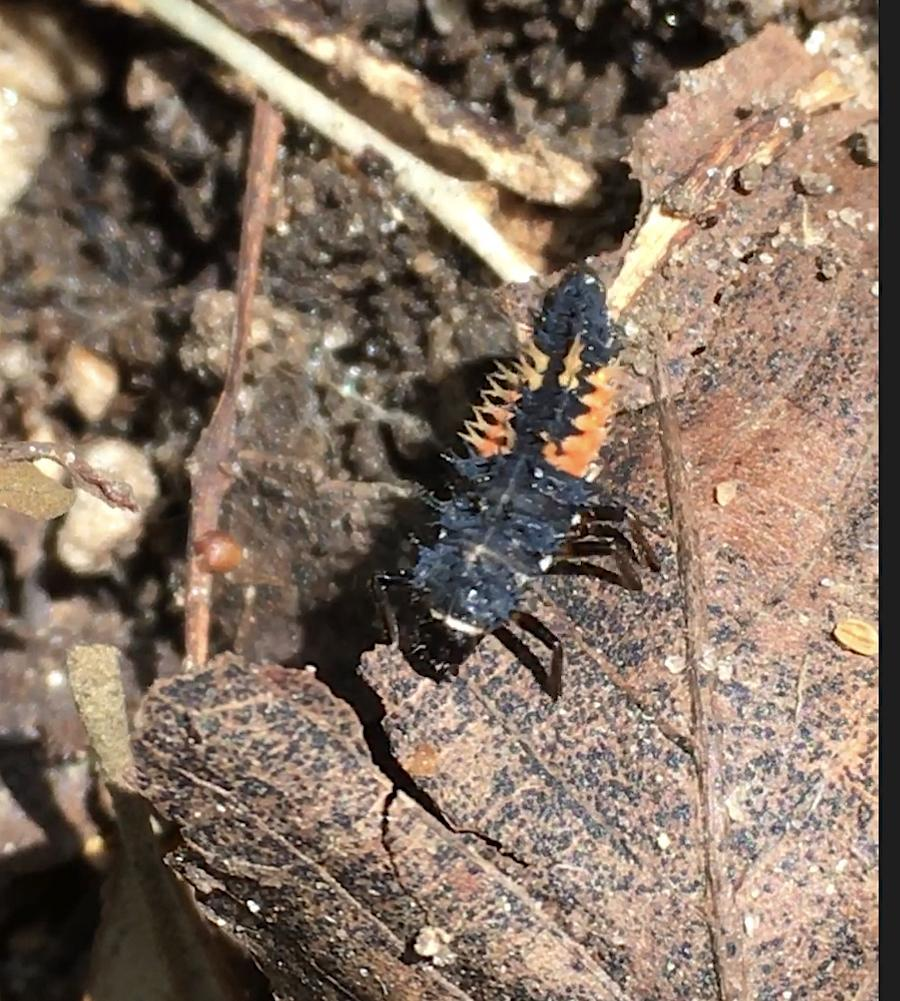ladybug: (371, 251, 671, 709)
